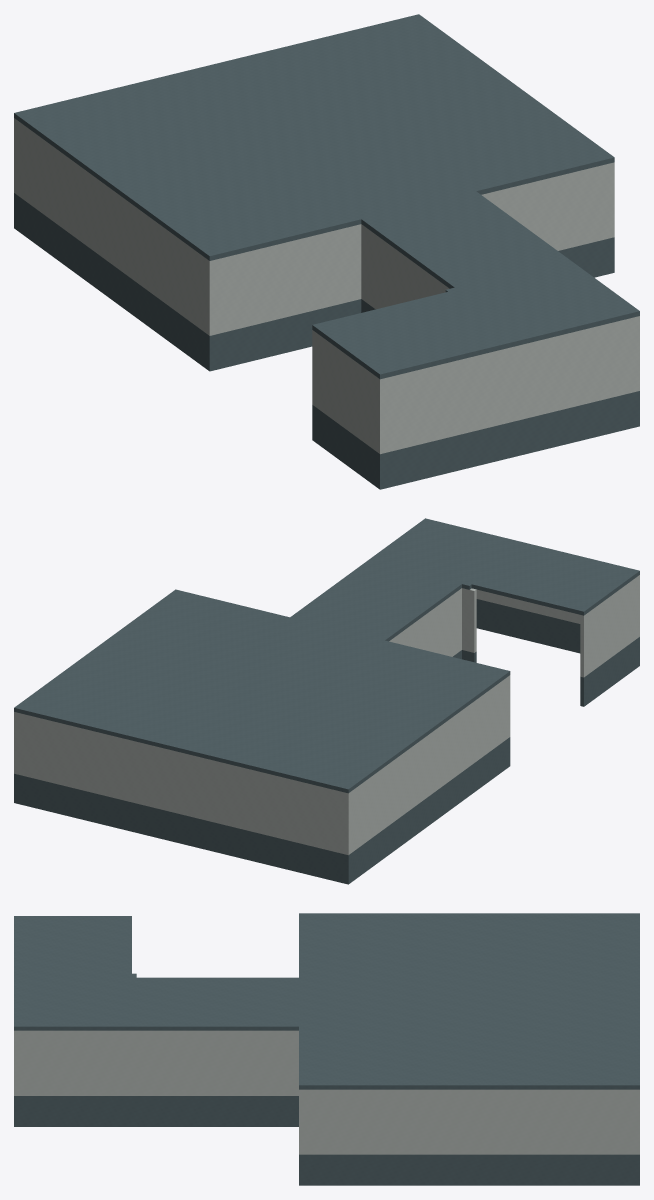
File: SharedCrewHome.glb
3 views of the same model, one above another, from view 1: azimuth 30°, elevation 25°; view 2: azimuth 150°, elevation 25°; view 3: azimuth 270°, elevation 25° (orthographic). The views are drawn at different scales.
Parts seen in each view (by area): view 1: HOME_Ceiling_0, HOME_Wall_Upper_0, HOME_Wall_Lower_0; view 2: HOME_Ceiling_0, HOME_Wall_Upper_0, HOME_Wall_Lower_0; view 3: HOME_Ceiling_0, HOME_Wall_Upper_0, HOME_Wall_Lower_0.
Part boxes in pixels (box(x1,y1,x2,y2)): HOME_Ceiling_0: box(14, 14, 639, 379); HOME_Wall_Upper_0: box(14, 118, 639, 454); HOME_Wall_Lower_0: box(14, 193, 639, 489); HOME_Ceiling_0: box(14, 518, 639, 793); HOME_Wall_Upper_0: box(14, 575, 639, 855); HOME_Wall_Lower_0: box(14, 599, 639, 884); HOME_Ceiling_0: box(14, 913, 639, 1089); HOME_Wall_Upper_0: box(14, 1030, 639, 1154); HOME_Wall_Lower_0: box(14, 1096, 639, 1185).
Size of the model in its own units: 12.28 by 3.34 by 18.88.
Materials: 4 (4 with a texture image).
